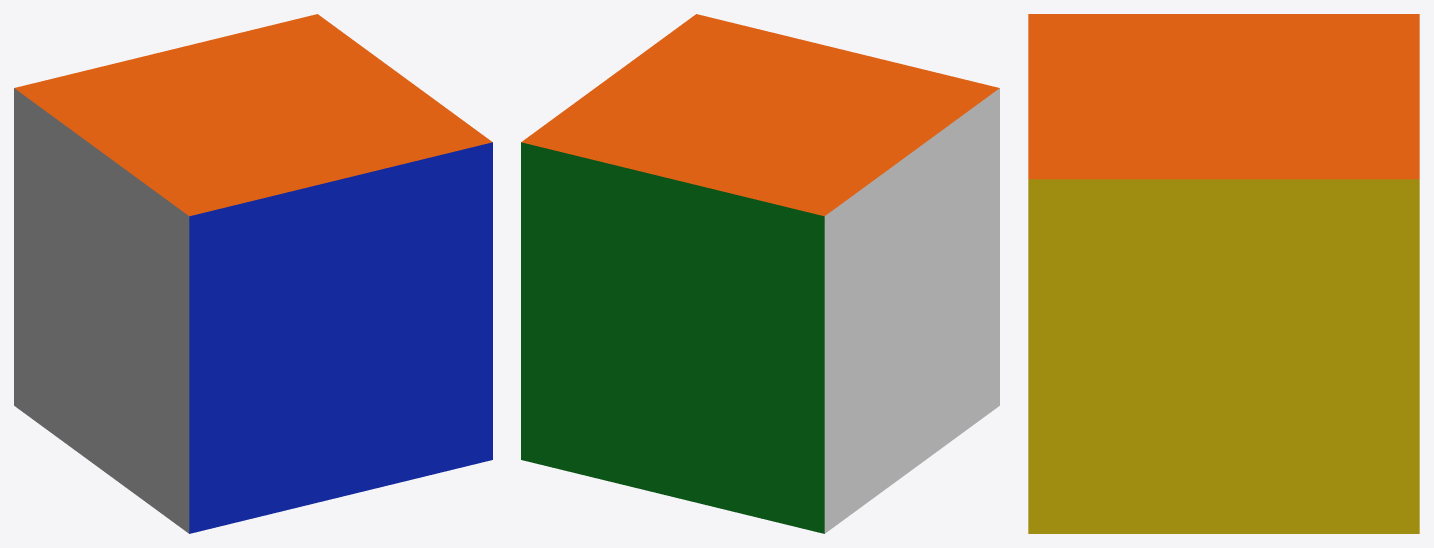
File: twins-cad-shell.obj
3 renders of one model, left to right at view 1: azimuth 30°, elevation 25°; view 2: azimuth 150°, elevation 25°; view 3: azimuth 270°, elevation 25°, orthographic. The views are drawn at different scales.
Parts seen in each view (by area): view 1: face_3_patch_3, face_3_patch_4, face_3_patch_29, face_3_patch_30, face_3_patch_21, face_3_patch_22, face_3_patch_11, face_3_patch_12, face_3_patch_6, face_3_patch_27, face_3_patch_5, face_3_patch_28 (+84 smaller); view 2: face_6_patch_29, face_6_patch_30, face_6_patch_3, face_6_patch_4, face_6_patch_11, face_6_patch_12, face_6_patch_21, face_6_patch_22, face_6_patch_28, face_6_patch_5, face_6_patch_27, face_6_patch_6 (+84 smaller); view 3: face_2_patch_4, face_2_patch_30, face_2_patch_3, face_2_patch_29, face_2_patch_12, face_2_patch_22, face_2_patch_11, face_2_patch_21, face_2_patch_6, face_2_patch_28, face_2_patch_5, face_2_patch_27 (+52 smaller).
Part boxes in pixels (box(x1,y1,x2,y2)): face_3_patch_3: box(189, 441, 277, 533); face_3_patch_4: box(189, 195, 277, 308); face_3_patch_29: box(404, 367, 492, 481); face_3_patch_30: box(404, 142, 492, 235); face_3_patch_21: box(341, 332, 424, 420); face_3_patch_22: box(341, 246, 424, 337); face_3_patch_11: box(258, 338, 340, 429); face_3_patch_12: box(258, 255, 340, 343); face_3_patch_6: box(189, 195, 305, 329); face_3_patch_27: box(376, 346, 492, 481); face_3_patch_5: box(189, 403, 306, 511); face_3_patch_28: box(376, 164, 492, 272); face_6_patch_29: box(736, 441, 824, 533); face_6_patch_30: box(736, 195, 824, 308); face_6_patch_3: box(521, 367, 609, 481); face_6_patch_4: box(521, 142, 609, 235); face_6_patch_11: box(589, 332, 672, 420); face_6_patch_12: box(589, 246, 672, 337); face_6_patch_21: box(673, 338, 755, 429); face_6_patch_22: box(673, 255, 755, 343); face_6_patch_28: box(708, 195, 824, 329); face_6_patch_5: box(521, 346, 637, 481); face_6_patch_27: box(707, 403, 824, 511); face_6_patch_6: box(521, 164, 637, 272); face_2_patch_4: box(1028, 179, 1142, 282); face_2_patch_30: box(1305, 179, 1419, 282); face_2_patch_3: box(1028, 430, 1142, 533); face_2_patch_29: box(1305, 430, 1419, 533); face_2_patch_12: box(1116, 259, 1223, 356); face_2_patch_22: box(1224, 259, 1331, 356); face_2_patch_11: box(1116, 356, 1223, 453); face_2_patch_21: box(1224, 356, 1331, 453); face_2_patch_6: box(1028, 180, 1178, 315); face_2_patch_28: box(1269, 180, 1419, 315); face_2_patch_5: box(1028, 397, 1178, 533); face_2_patch_27: box(1269, 397, 1419, 533).
Bounding box in the file's own units: 2 × 2 × 2.
